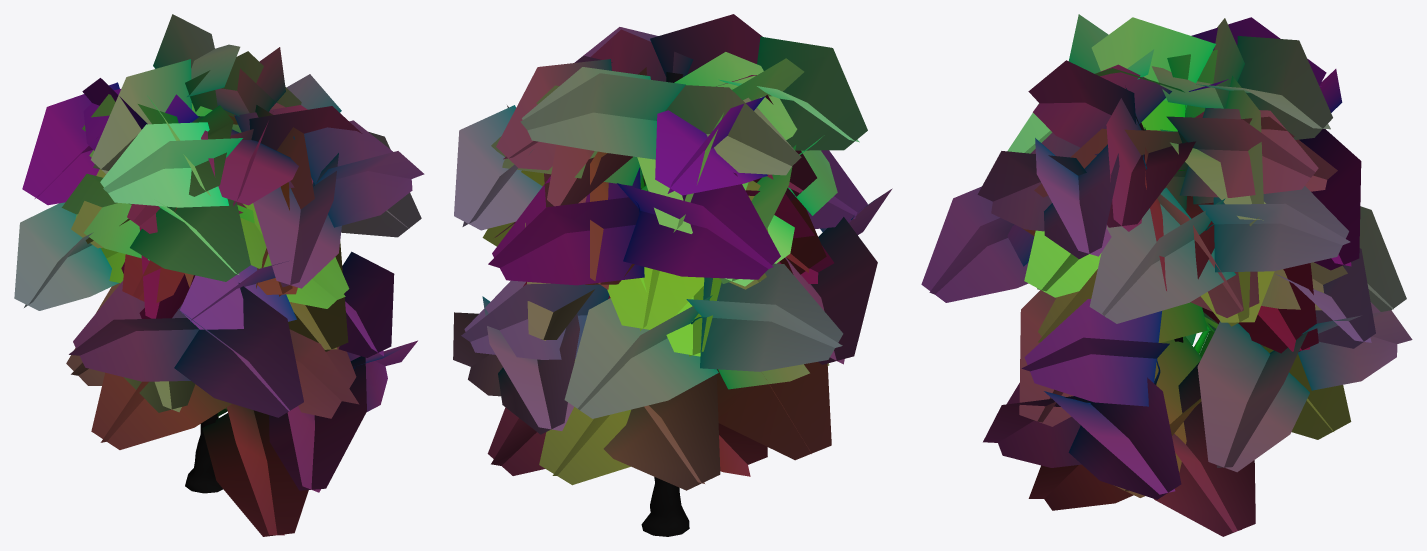
The model's file is M_Realistic7_12.fbx.
The picture shows the model from 3 angles, left to right: view 1: azimuth 30°, elevation 25°; view 2: azimuth 150°, elevation 25°; view 3: azimuth 270°, elevation 25°; orthographic projection. The views are drawn at different scales.
Visible parts, largest first — view 1: Tree_12; view 2: Tree_12; view 3: Tree_12.
Boxes of the visible parts, <box> form: Tree_12: <box>14,14,424,536</box>; Tree_12: <box>453,14,892,536</box>; Tree_12: <box>921,14,1412,536</box>.
Bounding box in the file's own units: 929 × 1105 × 1043.
